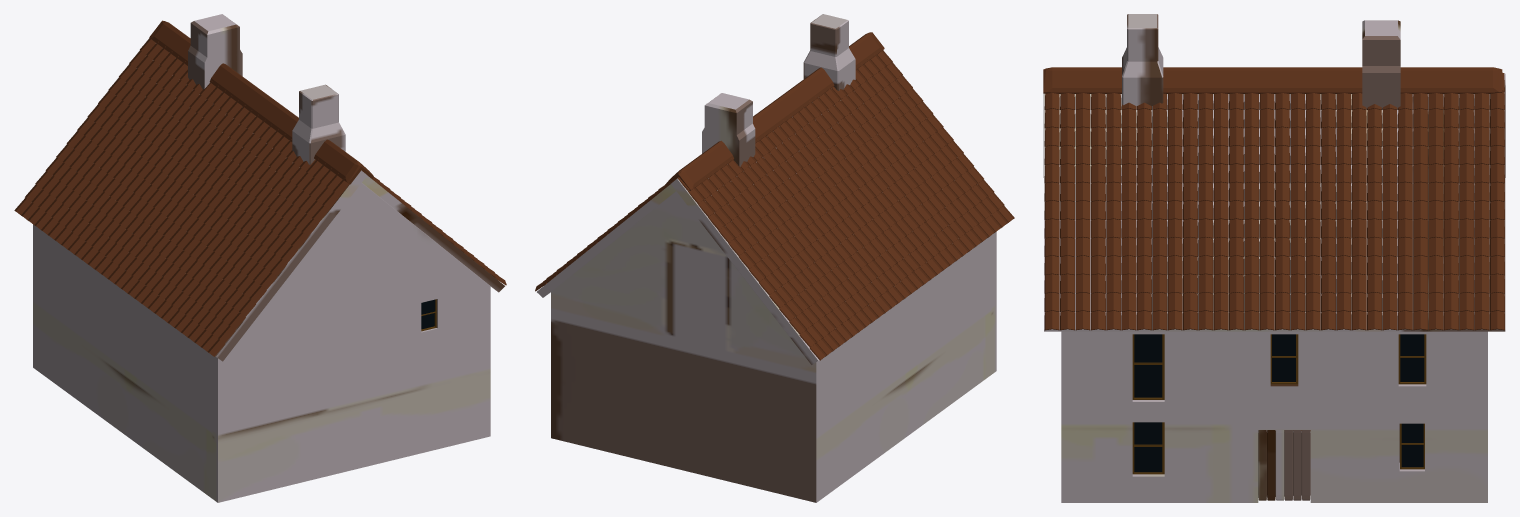
Rendered from islandhouse2.obj.
3 views of the same model, side by side, from view 1: azimuth 30°, elevation 25°; view 2: azimuth 150°, elevation 25°; view 3: azimuth 270°, elevation 25° (orthographic). The views are drawn at different scales.
Visible parts, largest first — view 1: Chimney, TopRow; view 2: Chimney, TopRow; view 3: TopRow, Chimney, WindowGlass.001, WindowFrame.001.
Part boxes in pixels (<box>): Chimney: <box>33,14,504,502</box>; TopRow: <box>14,20,506,356</box>; Chimney: <box>537,14,996,502</box>; TopRow: <box>535,32,1014,360</box>; TopRow: <box>1043,67,1504,330</box>; Chimney: <box>1043,14,1505,502</box>; WindowGlass.001: <box>1134,334,1424,472</box>; WindowFrame.001: <box>1132,334,1426,474</box>.
Size of the model in its own units: 22.11 by 25.11 by 25.93.
4 materials, 4 textured.
